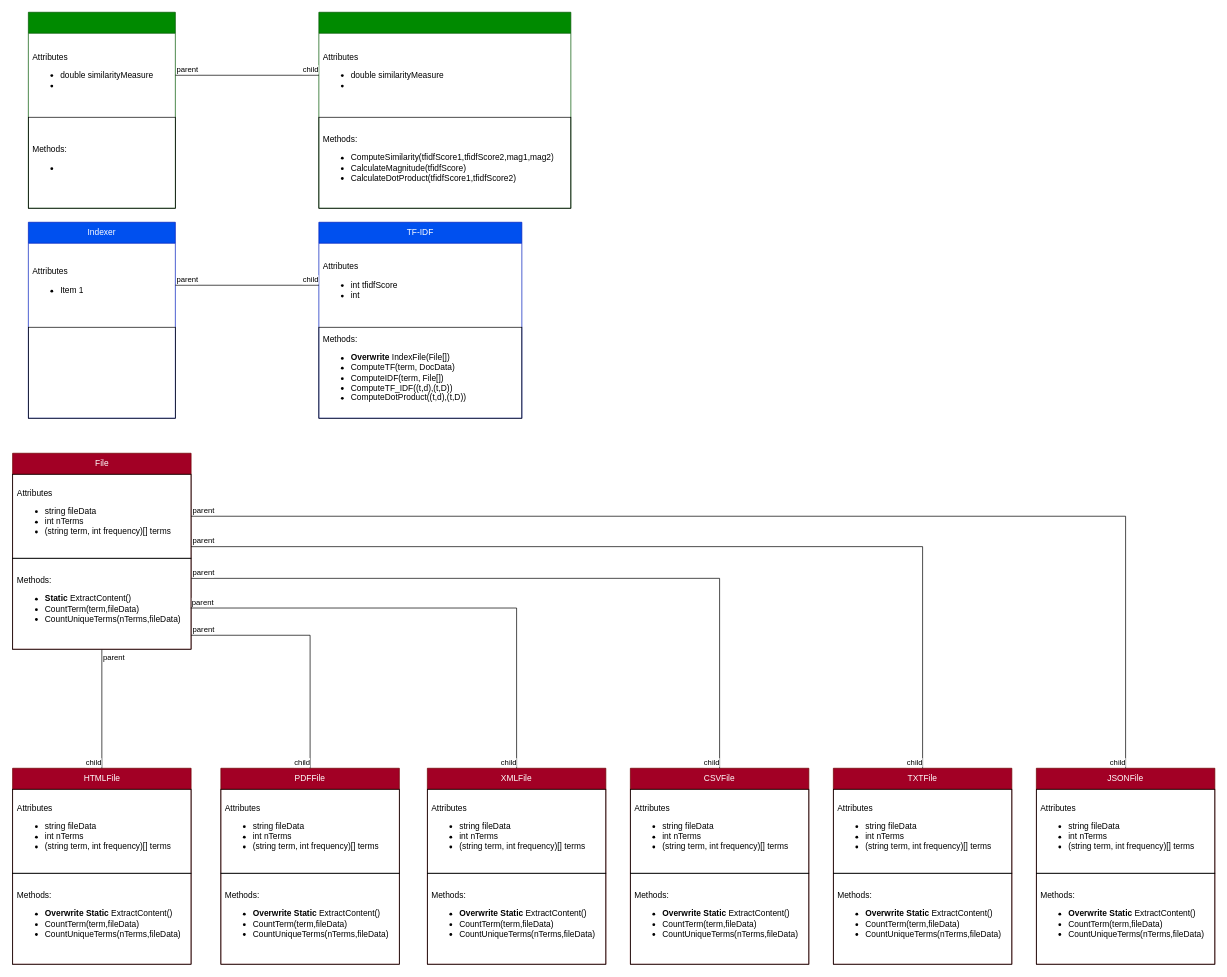
This 1227x977 diagram has some shape labels left out. Here are the shapes that lost their labels. From the top down, the box of each, then its label:
(28, 12, 175, 208): SearchEngine
(318, 12, 571, 208): Cosine Similarity
(28, 327, 175, 418): Methods: IndexFile(File[])
